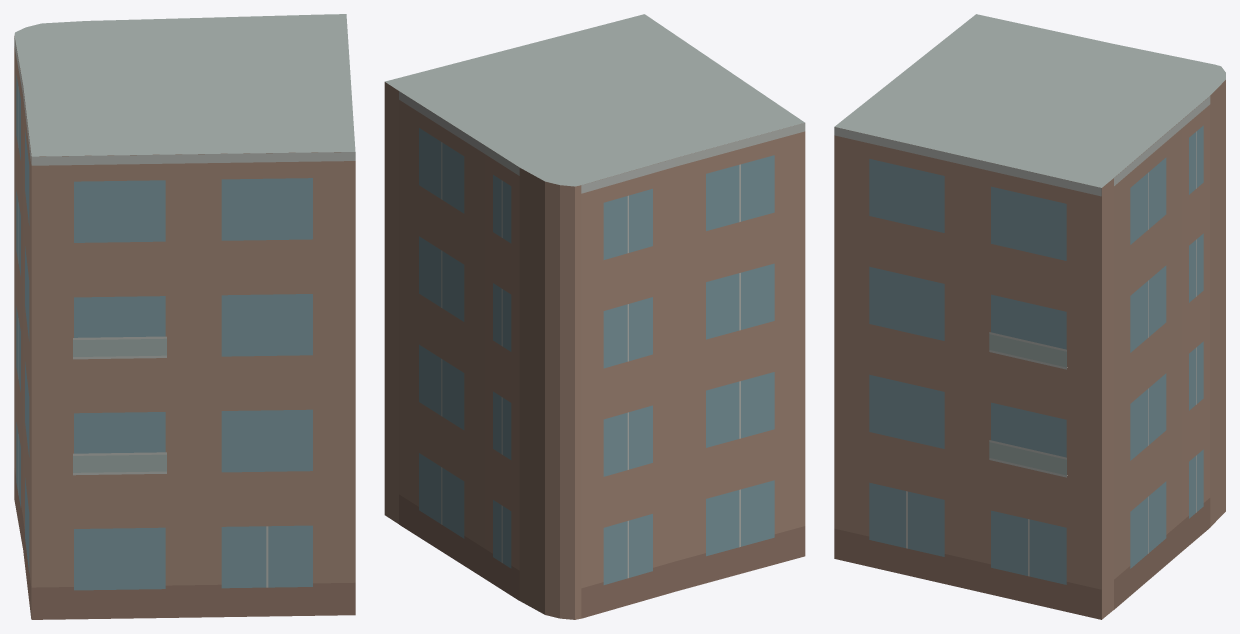
The model's file is survey-upis-32971639.glb.
3 views of the same model, side by side, from view 1: azimuth 30°, elevation 25°; view 2: azimuth 150°, elevation 25°; view 3: azimuth 270°, elevation 25° (orthographic). The views are drawn at different scales.
Parts seen in each view (by area): view 1: survey-upis-32971639.tmp; view 2: survey-upis-32971639.tmp; view 3: survey-upis-32971639.tmp.
Boxes of the visible parts, x1,y1,x2,y2 form: survey-upis-32971639.tmp: [14, 14, 355, 619]; survey-upis-32971639.tmp: [384, 14, 805, 619]; survey-upis-32971639.tmp: [834, 14, 1225, 619].
Bounding box in the file's own units: 10.63 × 12.3 × 10.11.
